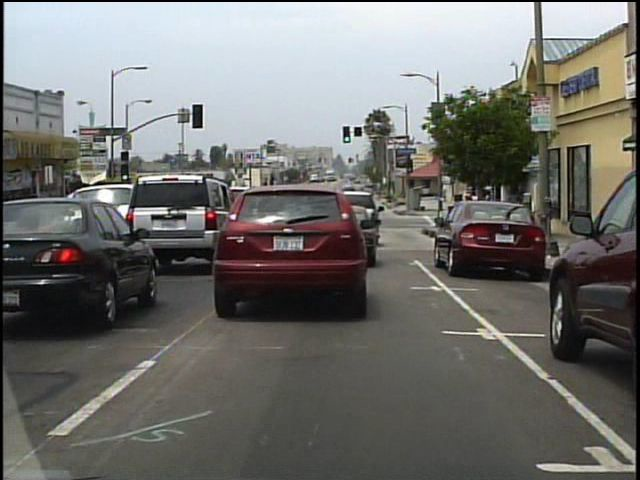person: (474, 194, 488, 239), (461, 193, 474, 239)
